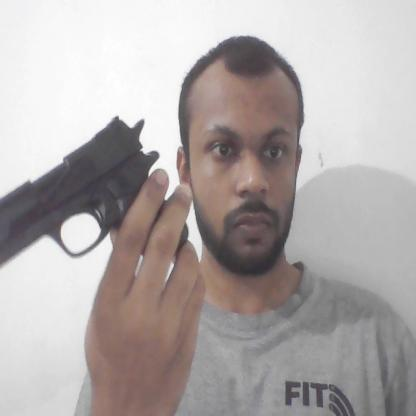handgun: (0, 114, 190, 270)
